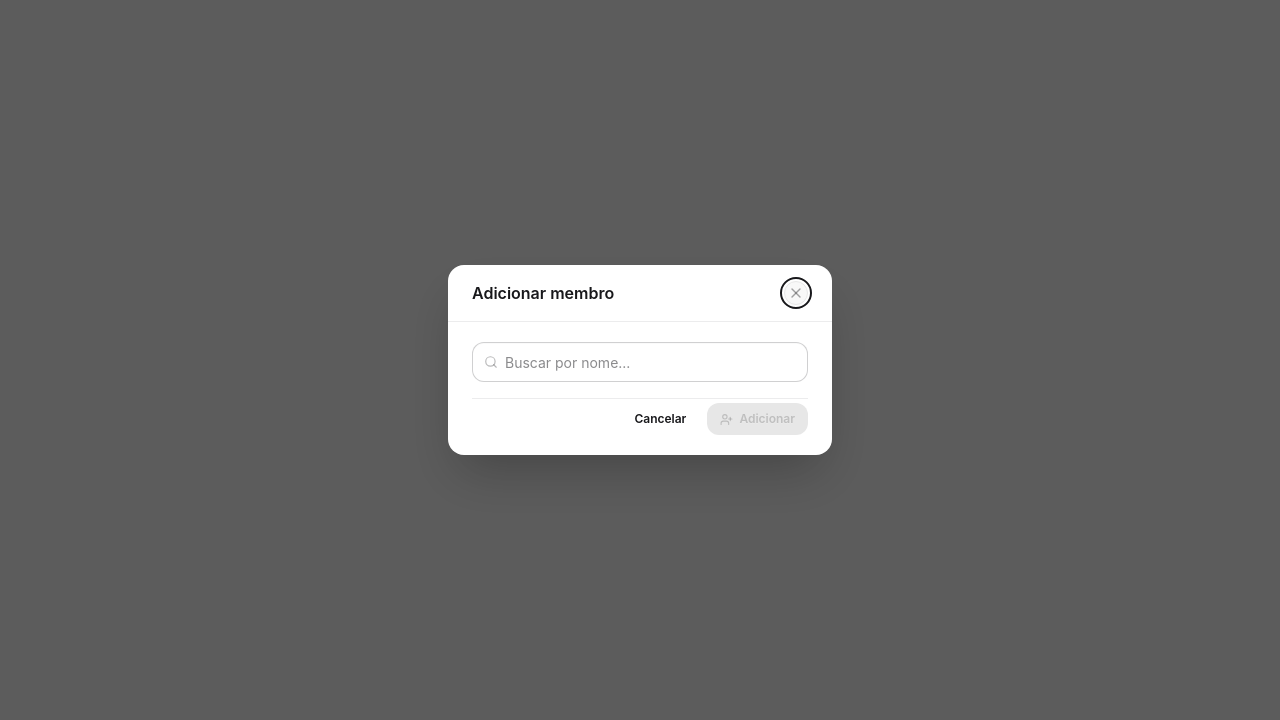
Scenario: AddMemberModal › exibe mensagem quando nenhum usuário é encontrado
The width and height of the screenshot is (1280, 720).
Click the field with placeholder "Buscar por nome..." at (640,362), box [472,342,808,382]
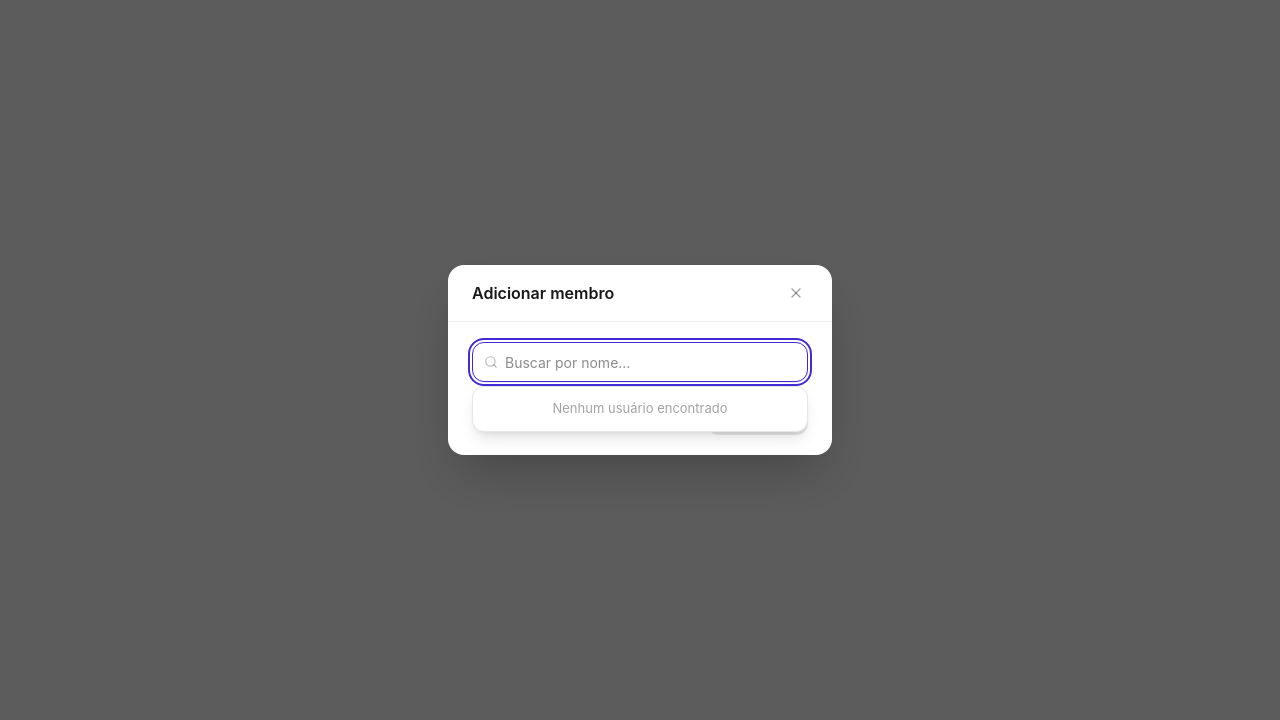
Now the text "Nenhum usuário encontrado" is shown, box [552,400,728,416]
